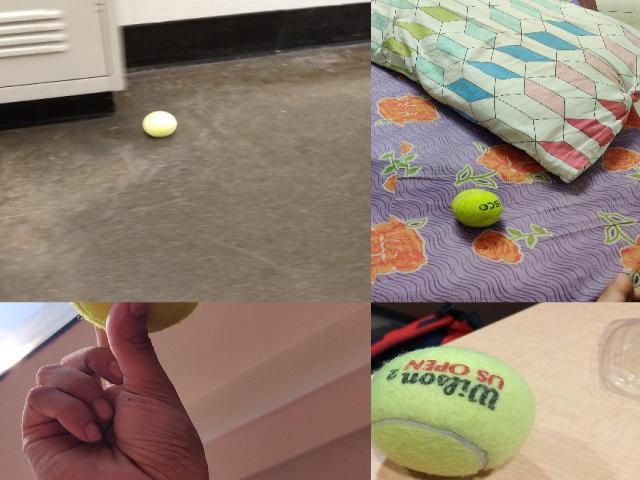tennis-ball: (371, 345, 536, 479), (62, 302, 206, 334), (452, 189, 502, 227), (141, 110, 177, 138)
